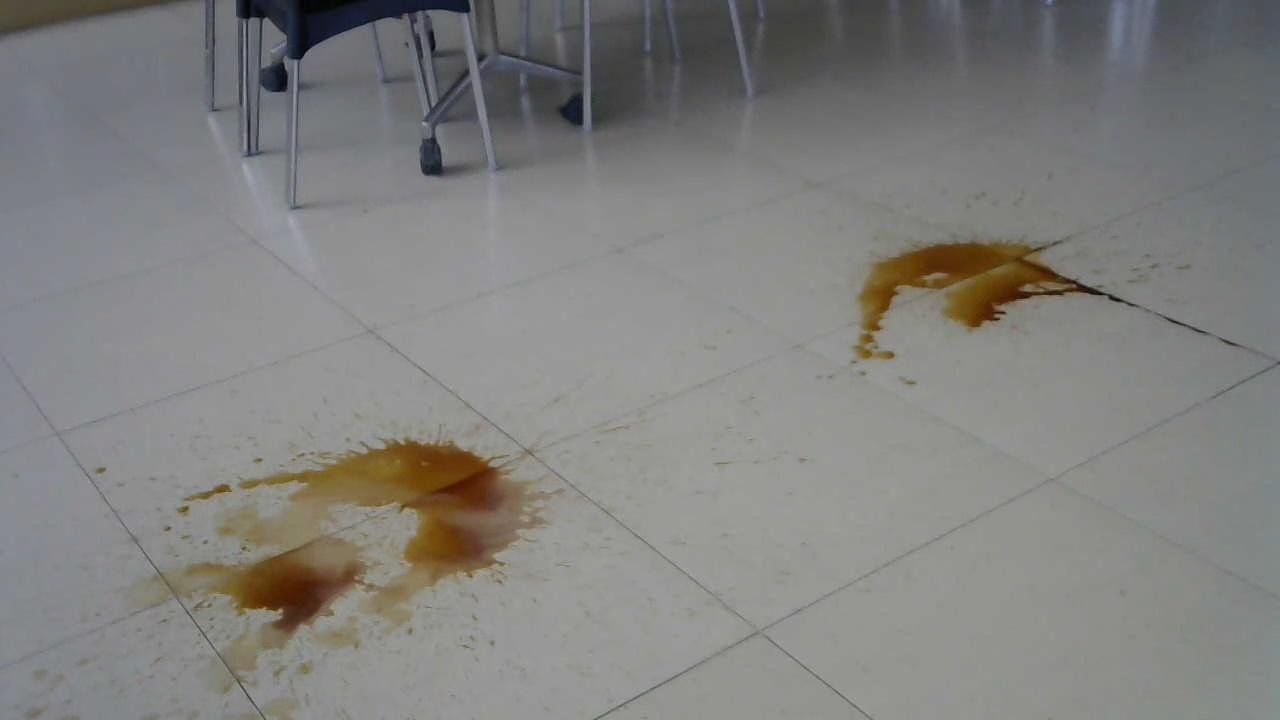dirty_floor: (142, 407, 571, 702), (834, 212, 1154, 383)
